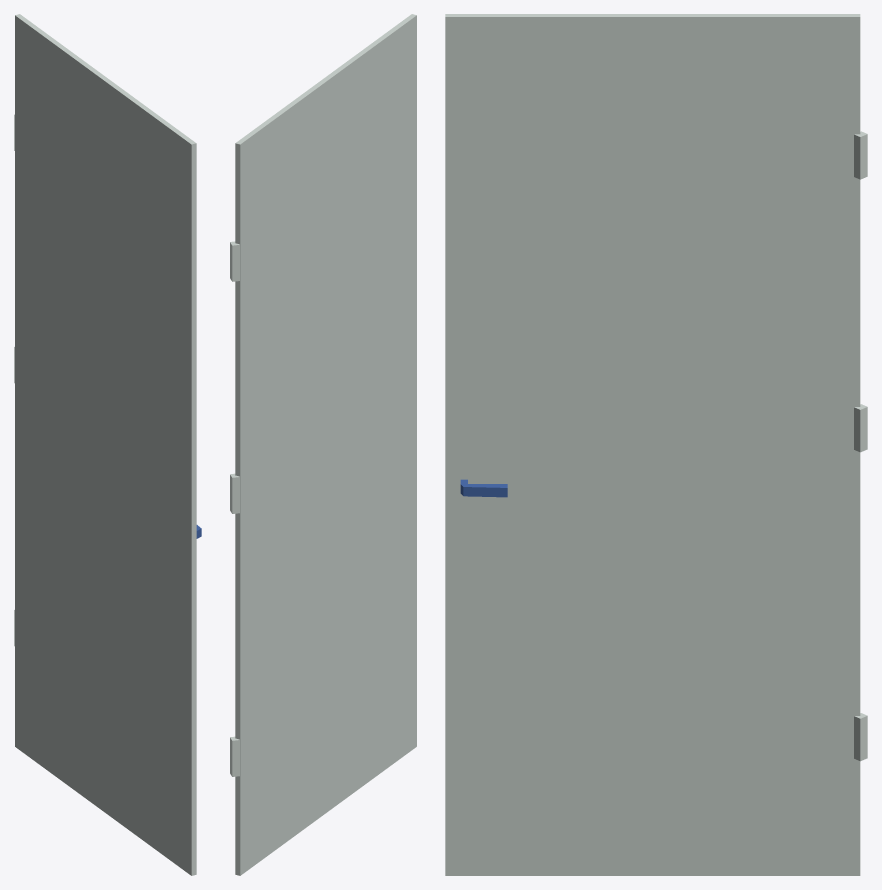
Rendered from SM_Door_Toilet_01.fbx.
3 views of the same model, side by side, from view 1: azimuth 30°, elevation 25°; view 2: azimuth 150°, elevation 25°; view 3: azimuth 270°, elevation 25° (orthographic). The views are drawn at different scales.
Parts seen in each view (by area): view 1: SM_Door_Toilet_01; view 2: SM_Door_Toilet_01; view 3: SM_Door_Toilet_01.
Boxes of the visible parts, bbox=[...] form: SM_Door_Toilet_01: bbox=[14, 14, 201, 875]; SM_Door_Toilet_01: bbox=[230, 14, 416, 875]; SM_Door_Toilet_01: bbox=[445, 14, 867, 875].
Bounding box in the file's own units: 6.03 × 214 × 95.59.
